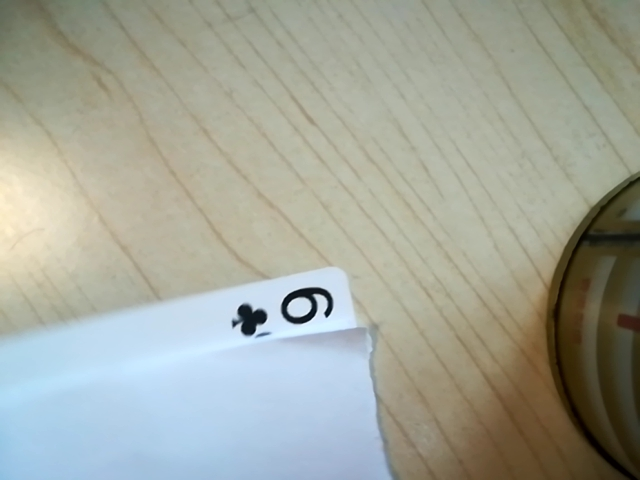mh 6: (216, 280, 351, 345)
